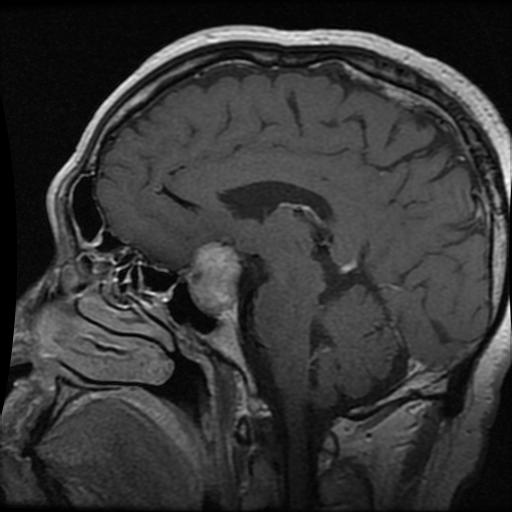Pituirity_tumour: (187, 242, 237, 311)
